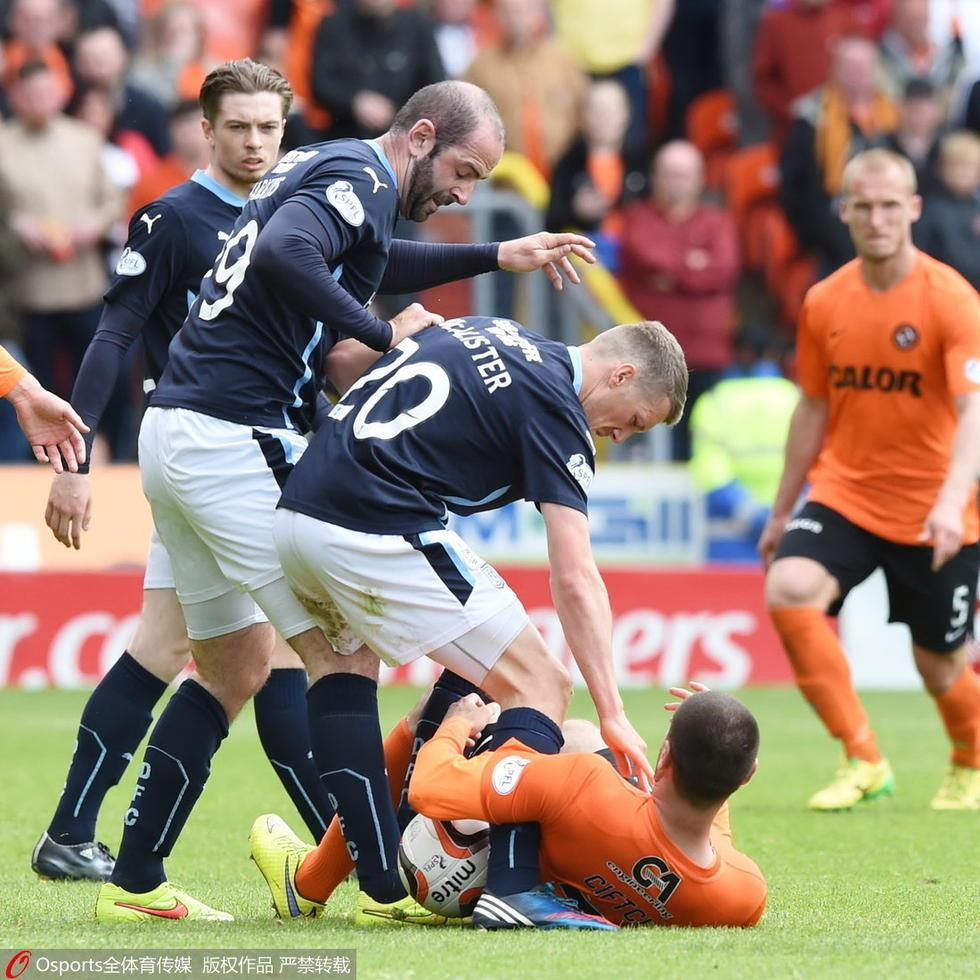bending: (117, 71, 558, 933), (275, 295, 693, 934)
down: (247, 644, 794, 931)
up: (742, 128, 980, 805), (59, 54, 305, 516)
